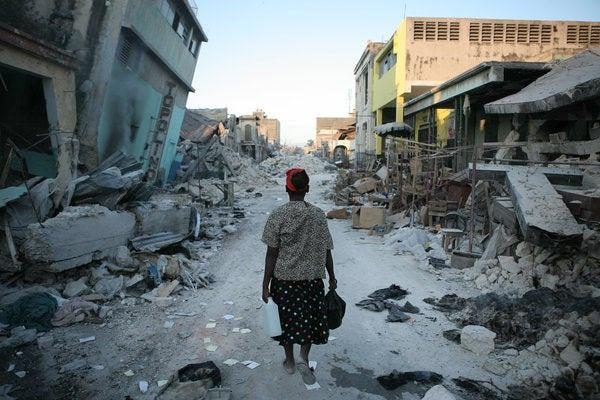victim: (256, 164, 342, 388)
